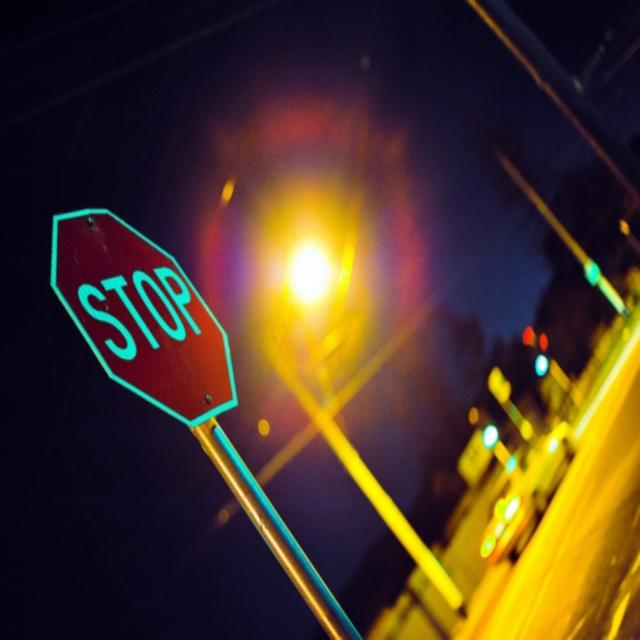car: (477, 418, 575, 565)
pole: (261, 347, 465, 608), (189, 419, 364, 639)
